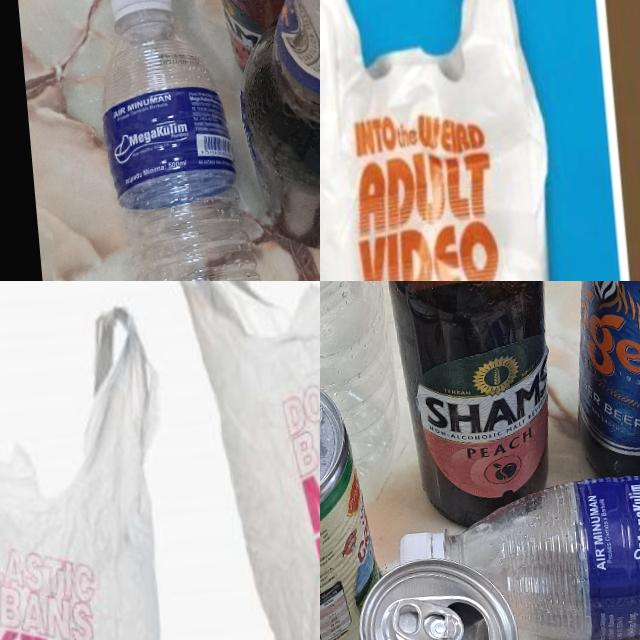aba de lata: (391, 594, 465, 640)
garrafa de vidro: (379, 281, 564, 530), (226, 0, 320, 258), (556, 281, 640, 477), (200, 0, 320, 64)
garrafa plástica: (93, 0, 275, 281), (397, 470, 640, 640), (320, 281, 400, 489)
lata: (355, 546, 586, 640), (320, 361, 386, 640)
sacola plástica: (320, 0, 578, 281), (0, 281, 192, 640), (153, 281, 320, 640)
tampa plástica: (106, 0, 174, 27), (400, 526, 446, 564)
